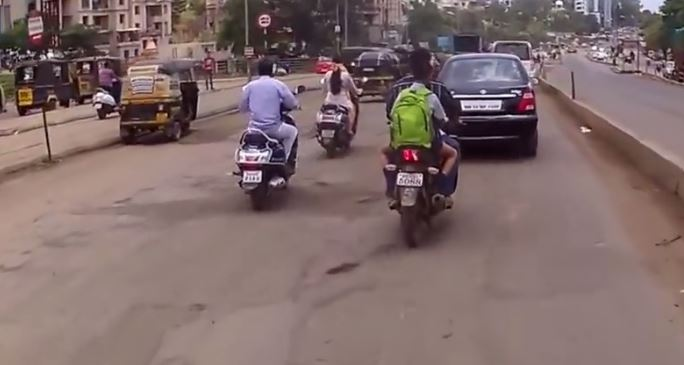autorickshaw: (116, 54, 206, 148), (354, 47, 402, 105)
car: (431, 51, 553, 169)
